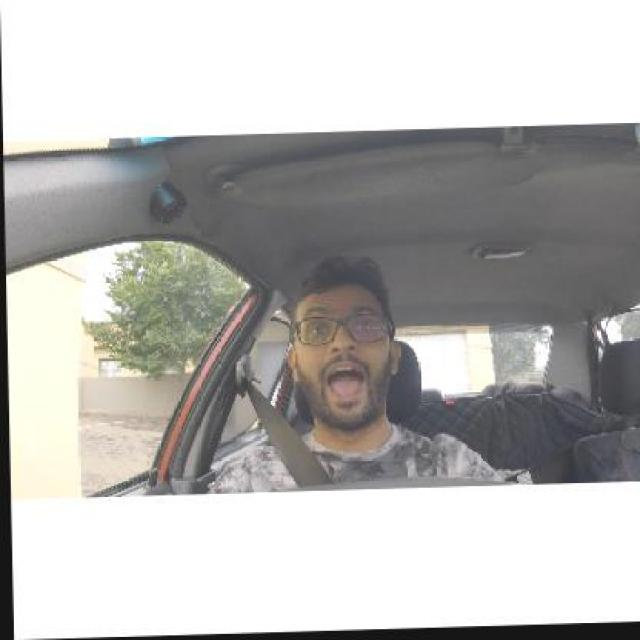person: (286, 283, 402, 428)
